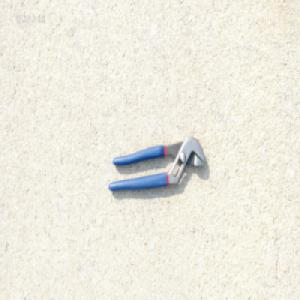Pliers: (107, 136, 206, 193)
